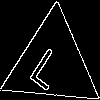L: (27, 38, 73, 93)
